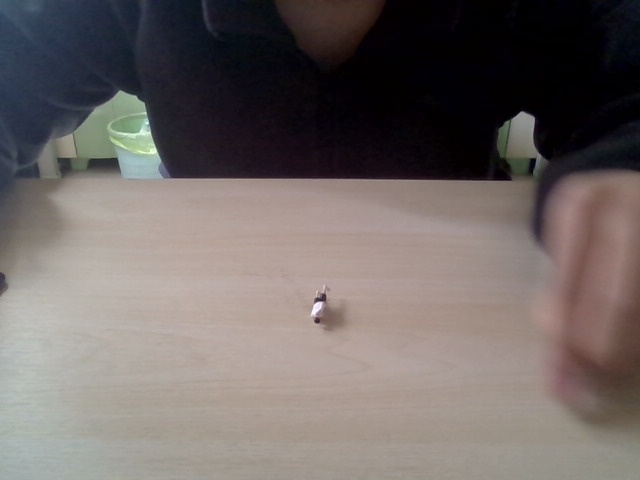fall: (304, 280, 336, 331)
